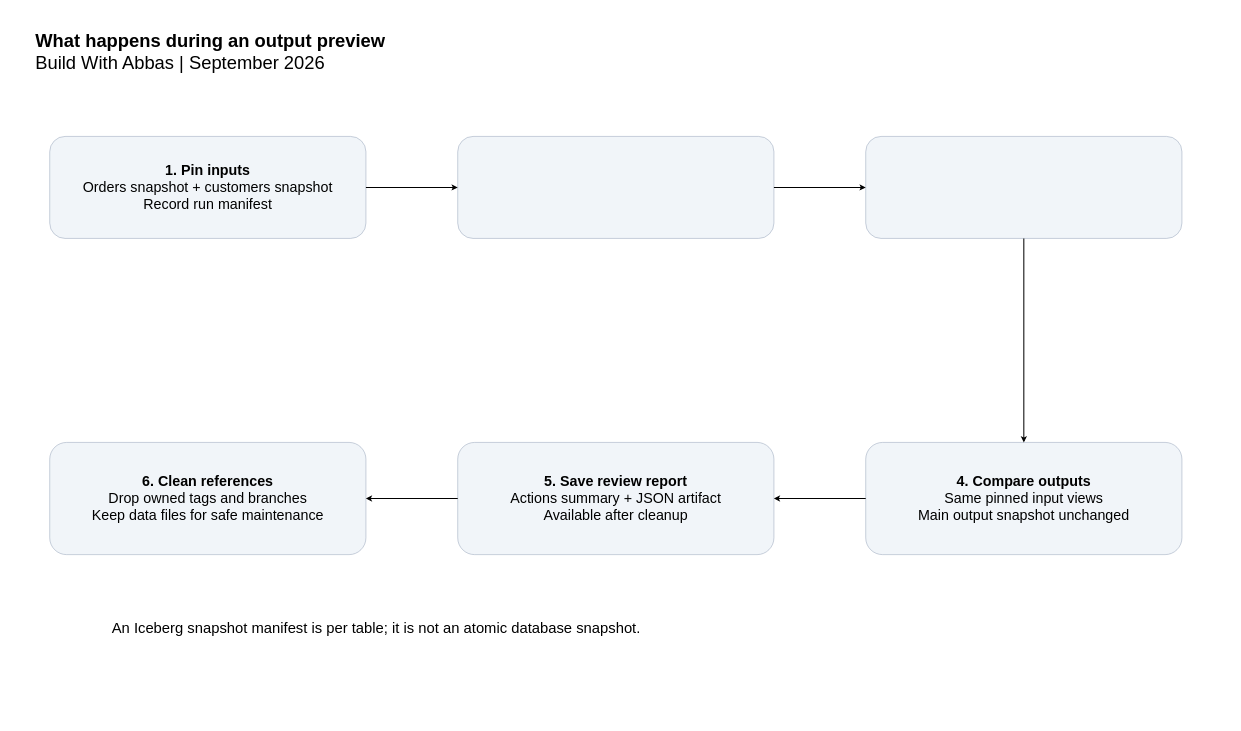
Some shapes in this 1241 by 731 pixel diagram are drawn without their labels. Each missing label, with the centre of its shape:
2. Base version PR base SQL Write base output branch: point 615,187
3. Candidate version PR head SQL Write candidate output branch: point 1023,187
